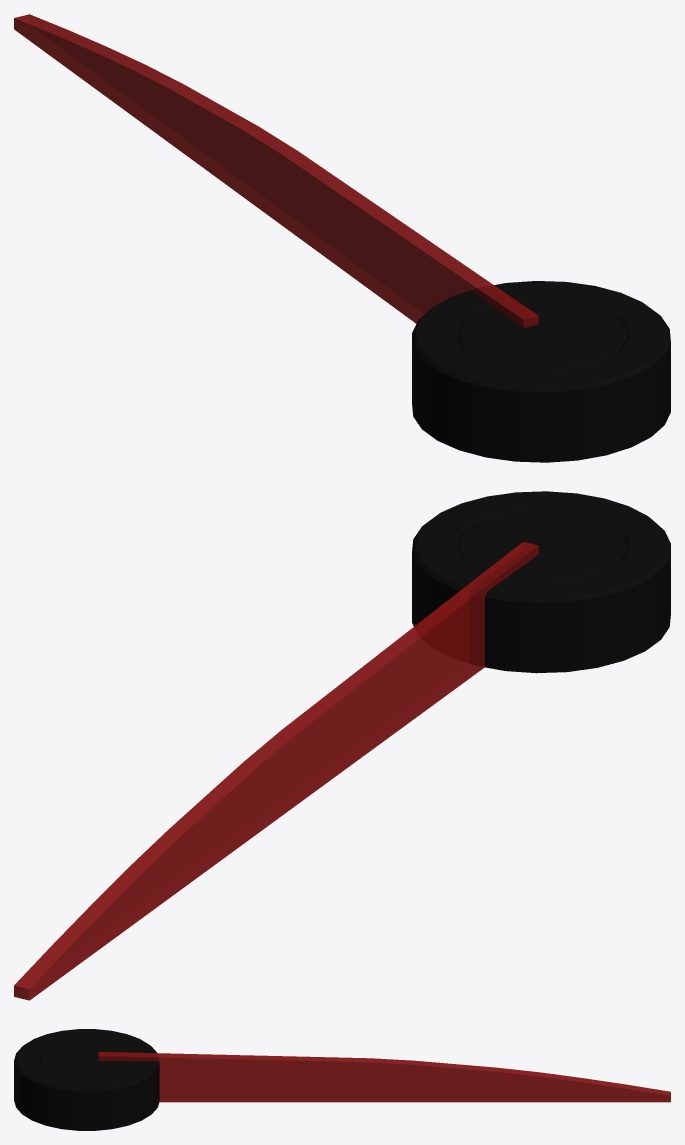
The model's file is needle_3.dae.
3 renders of one model, top to bottom at view 1: azimuth 30°, elevation 25°; view 2: azimuth 150°, elevation 25°; view 3: azimuth 270°, elevation 25°, orthographic. The views are drawn at different scales.
Visible parts, largest first — view 1: qt_gauge_needles_3; view 2: qt_gauge_needles_3; view 3: qt_gauge_needles_3.
Boxes of the visible parts, x1,y1,x2,y2 form: qt_gauge_needles_3: (14,14,670,462); qt_gauge_needles_3: (14,491,670,1000); qt_gauge_needles_3: (14,1029,670,1130).
Bounding box in the file's own units: 1.99 × 0.7003 × 9.
